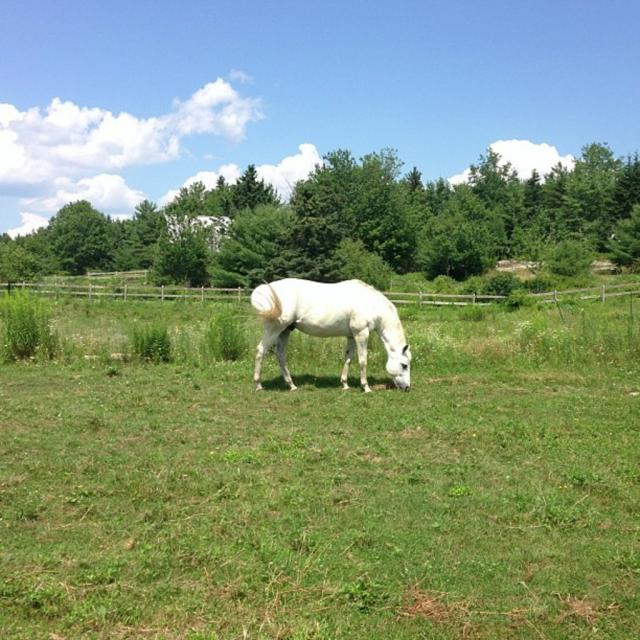Horse: (249, 273, 413, 393)
